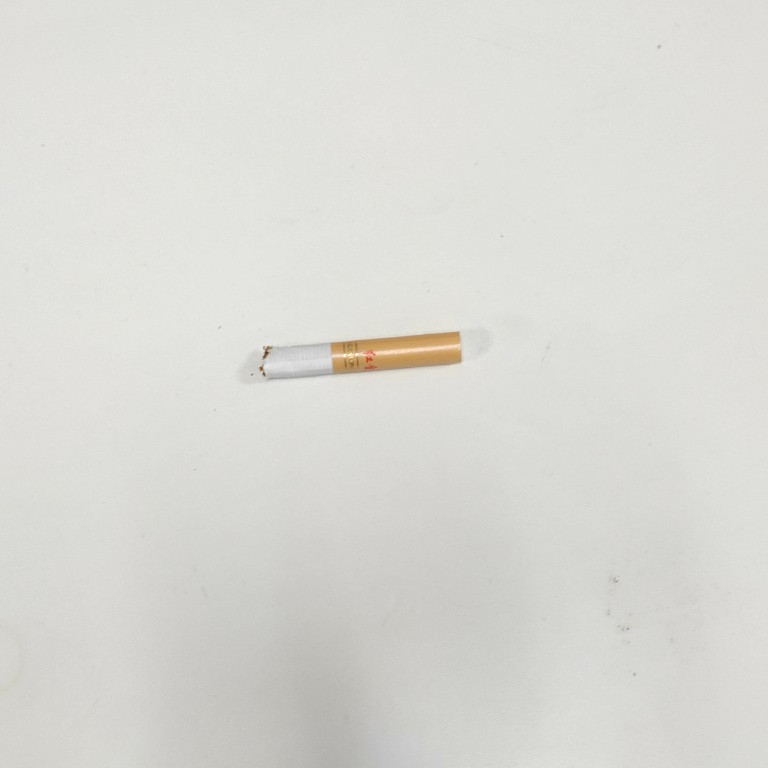cigarette: (255, 322, 471, 396)
